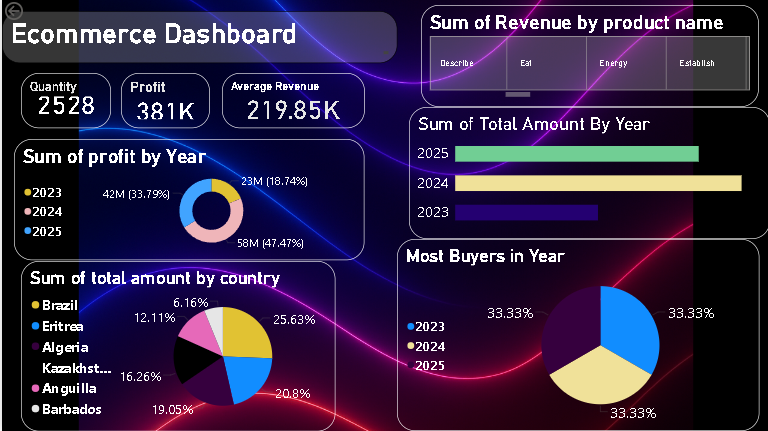

What the dashboard file says about the page in this screenshot:
{"tool":"powerbi","page":{"name":"Page 1","canvas":[1280,720],"ordinal":0},"visuals":[{"type":"textbox","title":"Ecommerce Dashboard","box":[0,36,658,88],"z":0},{"type":"donutChart","title":"Sum of total amount by country","fields":{"Category":["sales_view.country"],"Y":["Sum(sales_view.total_amount)"]},"box":[32,436,524,284],"z":1000},{"type":"barChart","title":"Sum of Total Amount By Year","fields":{"Category":["sales_view.order_date.Variation.Date Hierarchy.Year","sales_view.order_date.Variation.Date Hierarchy.Quarter","sales_view.order_date.Variation.Date Hierarchy.Month","sales_view.order_date.Variation.Date Hierarchy.Day"],"Y":["Sum(sales_view.total_amount)"]},"box":[678,166,602,220],"z":5000},{"type":"donutChart","title":"Most Buyers in Year","fields":{"Category":["sales_view.order_date.Variation.Date Hierarchy.Year"],"Y":["CountNonNull(customers.country)"]},"box":[676,400,604,320],"z":7000},{"type":"clusteredBarChart","fields":{"Category":["sales_view.order_date.Variation.Date Hierarchy.Year","sales_view.order_date.Variation.Date Hierarchy.Quarter","sales_view.order_date.Variation.Date Hierarchy.Month"],"Y":["Sum(sales_view.profit)"]},"box":[16,216,588,220],"z":7001},{"type":"card","title":"Quantity","fields":{"Values":["Sum(sales_view.quantity)"]},"box":[32,124,150,92],"z":7002},{"type":"card","title":"Profit","fields":{"Values":["Max(sales_view.profit)"]},"box":[198,124,148,92],"z":7003},{"type":"card","title":"Average Revenue","fields":{"Values":["Avg(sales_view.Revenue)"]},"box":[366,124,238,92],"z":7004},{"type":"slicer","fields":{"Values":["sales_view.Revenue","sales_view.quantity"]},"box":[720,50,520,116],"z":7005},{"type":"actionButton","box":[0,0,100,40],"z":7006}]}

Visuals, with their boxes in screenshot pixels (x1, y1, x2, y2), scaled from the page's 1280x720 canvas onto the 768x431 screenshot:
"Ecommerce Dashboard" textbox: {"left": 0, "top": 22, "right": 395, "bottom": 74}
"Sum of total amount by country" donutChart: {"left": 19, "top": 261, "right": 334, "bottom": 430}
"Sum of Total Amount By Year" barChart: {"left": 407, "top": 99, "right": 767, "bottom": 231}
"Most Buyers in Year" donutChart: {"left": 406, "top": 239, "right": 767, "bottom": 430}
clusteredBarChart - sales_view.order_date.Variation.Date Hierarchy.Year x sales_view.order_date.Variation.Date Hierarchy.Quarter: {"left": 10, "top": 129, "right": 362, "bottom": 261}
"Quantity" card: {"left": 19, "top": 74, "right": 109, "bottom": 129}
"Profit" card: {"left": 119, "top": 74, "right": 208, "bottom": 129}
"Average Revenue" card: {"left": 220, "top": 74, "right": 362, "bottom": 129}
slicer - sales_view.Revenue x sales_view.quantity: {"left": 432, "top": 30, "right": 744, "bottom": 99}
actionButton: {"left": 0, "top": 0, "right": 60, "bottom": 24}
